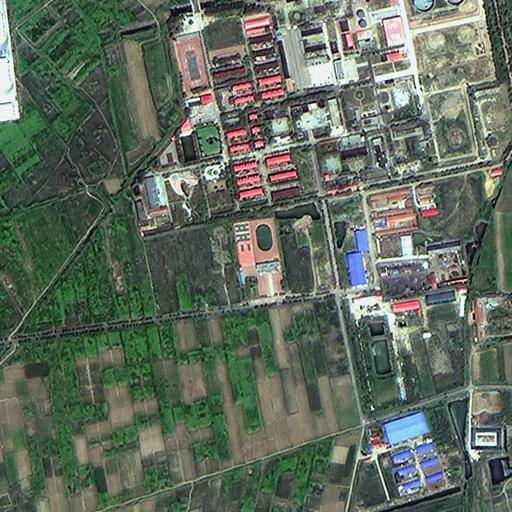school: (231, 211, 282, 302)
